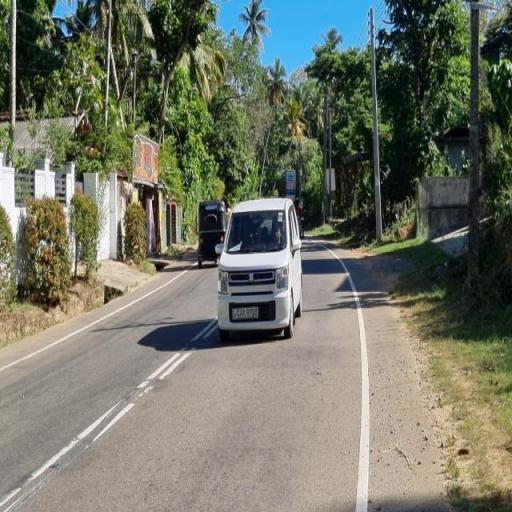double_white_line: (136, 316, 218, 399)
